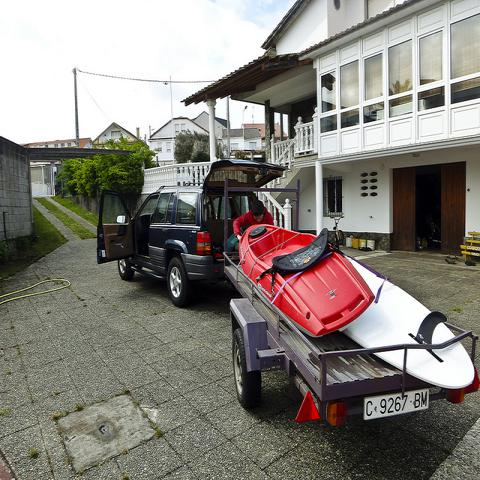car: (98, 160, 286, 306)
